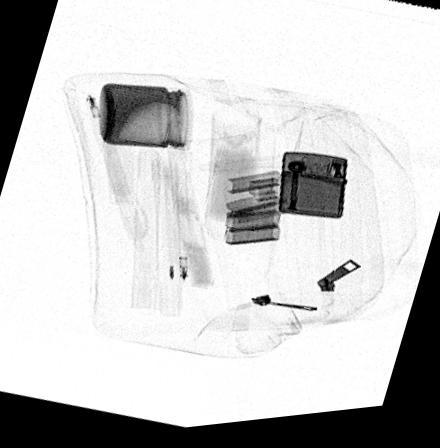Lighter: (275, 157, 347, 226)
